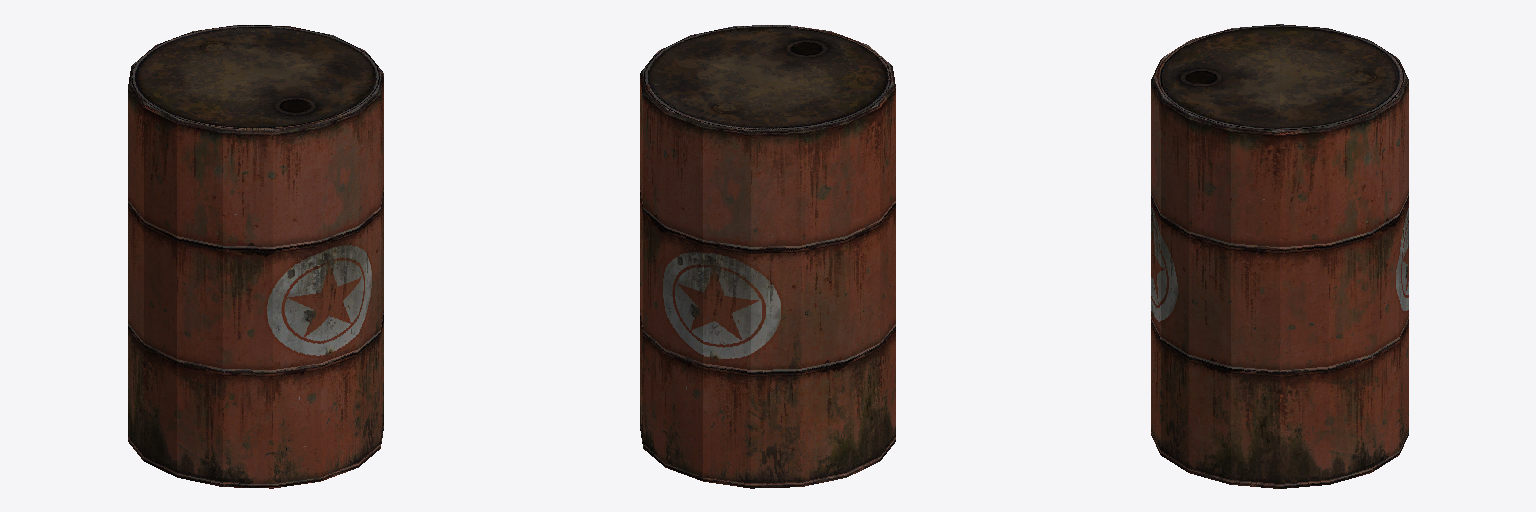
3 renders of one model, left to right at view 1: azimuth 30°, elevation 25°; view 2: azimuth 150°, elevation 25°; view 3: azimuth 270°, elevation 25°, orthographic.
Parts seen in each view (by area): view 1: default01; view 2: default01; view 3: default01.
Boxes of the visible parts, <box> form: default01: <box>128,25,383,488</box>; default01: <box>640,25,895,488</box>; default01: <box>1151,24,1408,488</box>.
Bounding box in the file's own units: 1.43 × 2.18 × 1.43.
1 materials, 1 textured.